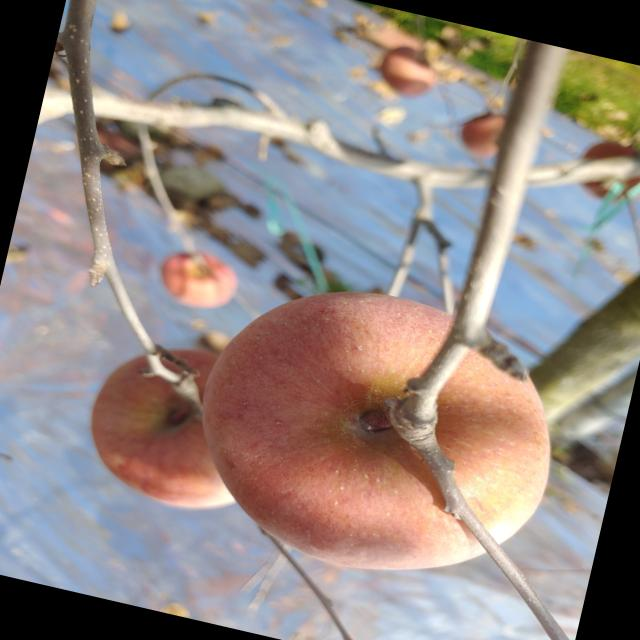fresh: (175, 257, 589, 612), (69, 326, 292, 526)
